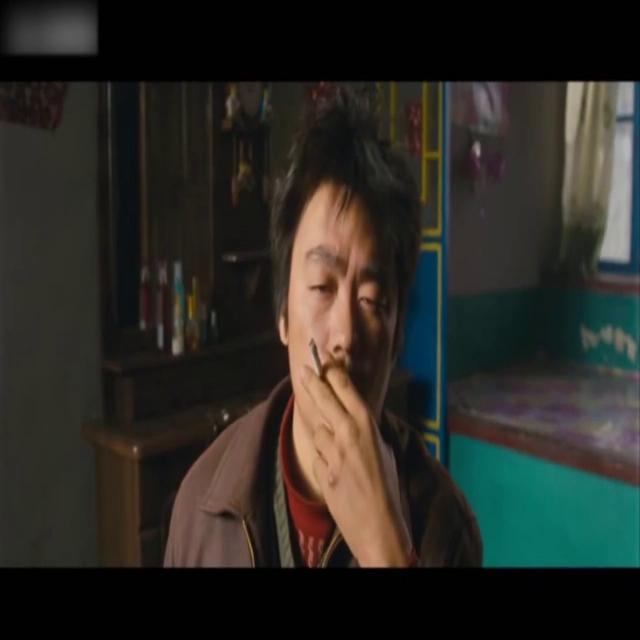smoking: (311, 336, 323, 380)
